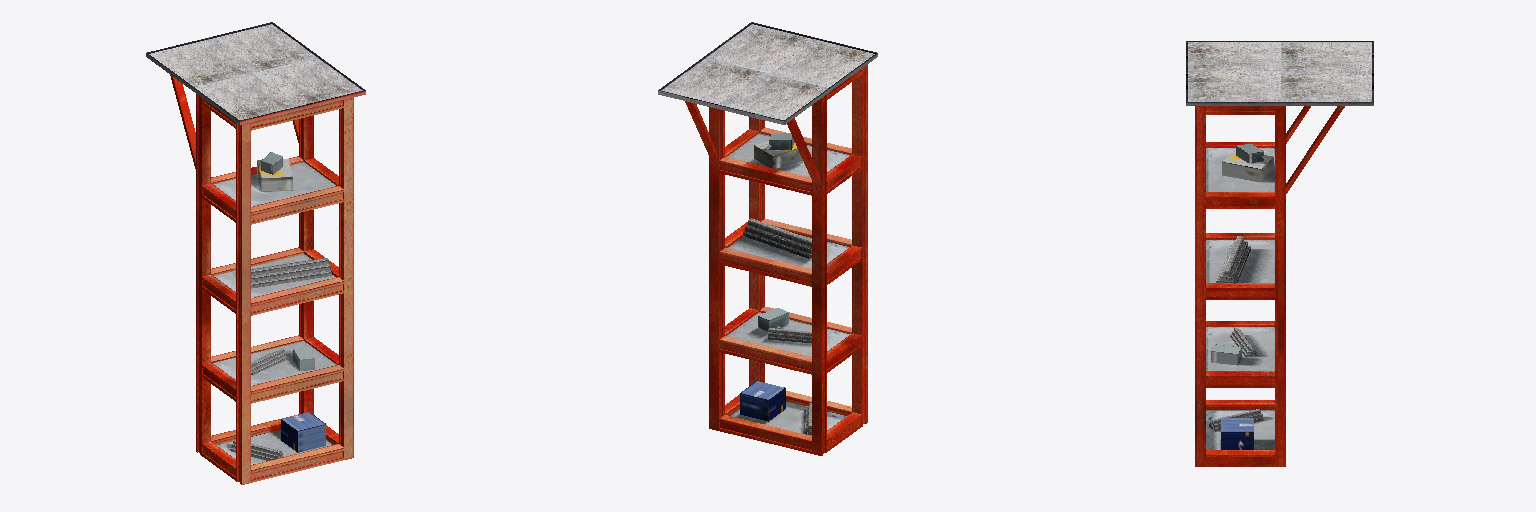
The picture shows the model from 3 angles: view 1: azimuth 30°, elevation 25°; view 2: azimuth 150°, elevation 25°; view 3: azimuth 270°, elevation 25°; orthographic projection.
Bounding box in the file's own units: 10.18 × 28.32 × 13.05.
1 materials, 1 textured.